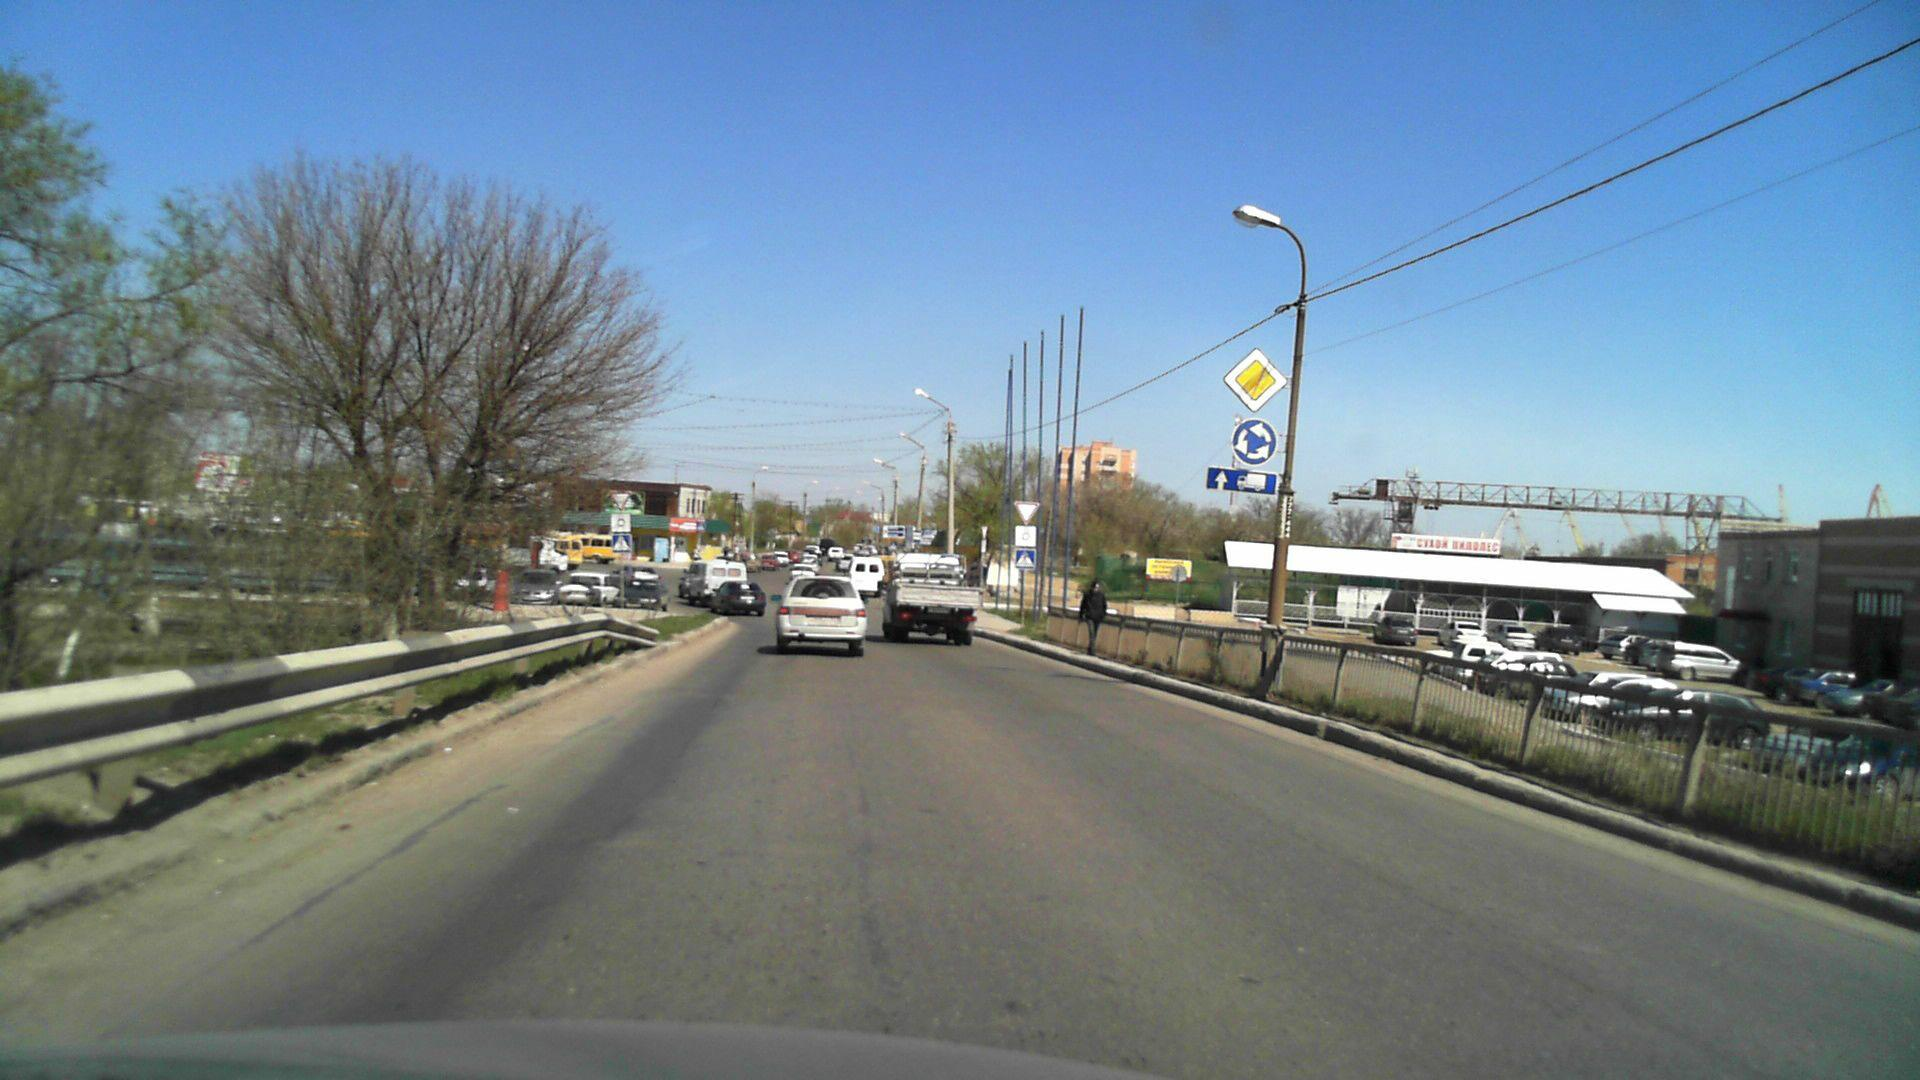2_2: (1222, 347, 1288, 411)
2_4: (1014, 501, 1040, 526), (608, 492, 629, 512)
4_3: (1229, 418, 1276, 464)
5_16: (914, 530, 923, 542)
5_19_1: (1014, 549, 1036, 571)
5_19_2: (613, 534, 633, 553)
6_10_1: (882, 525, 907, 541)
6_15_1: (1208, 467, 1275, 497)
8_13: (1014, 525, 1038, 549), (611, 513, 632, 531)
